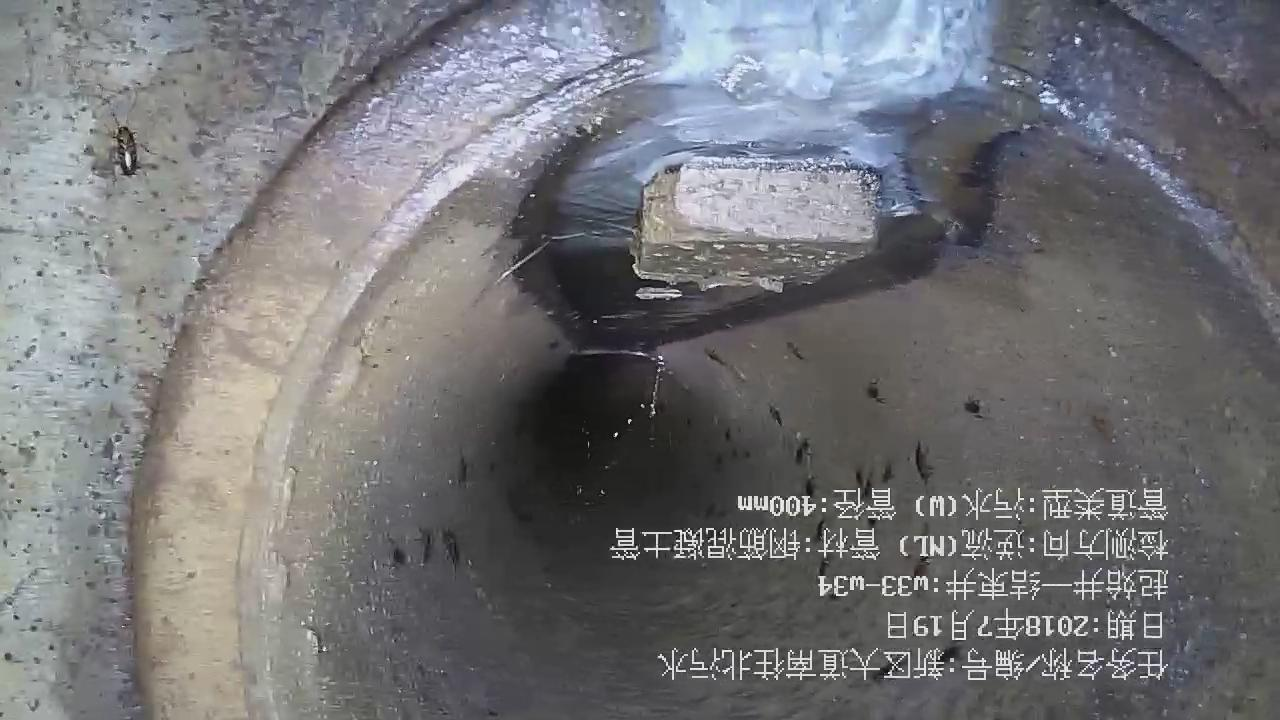ZAW: (630, 159, 879, 292)
